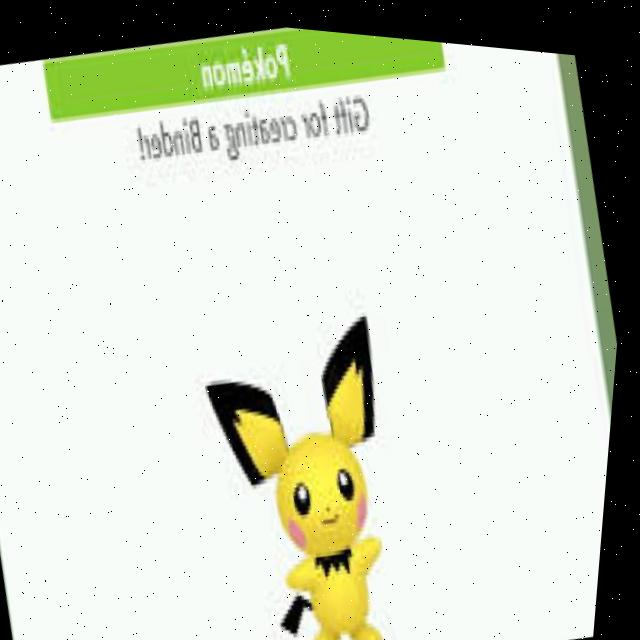pichu: (175, 295, 457, 640)
